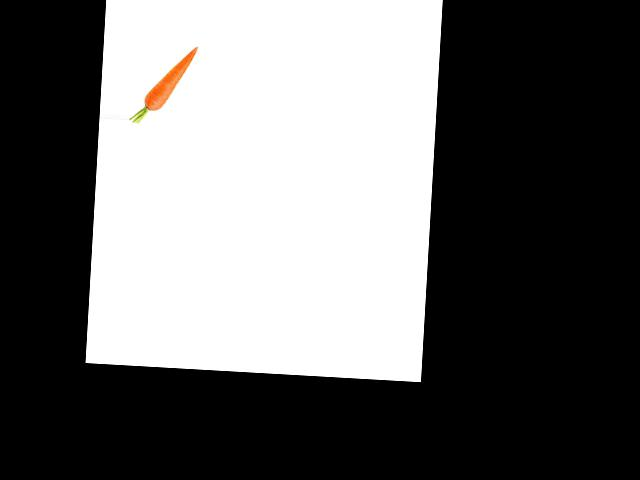carrot: (142, 42, 200, 117)
